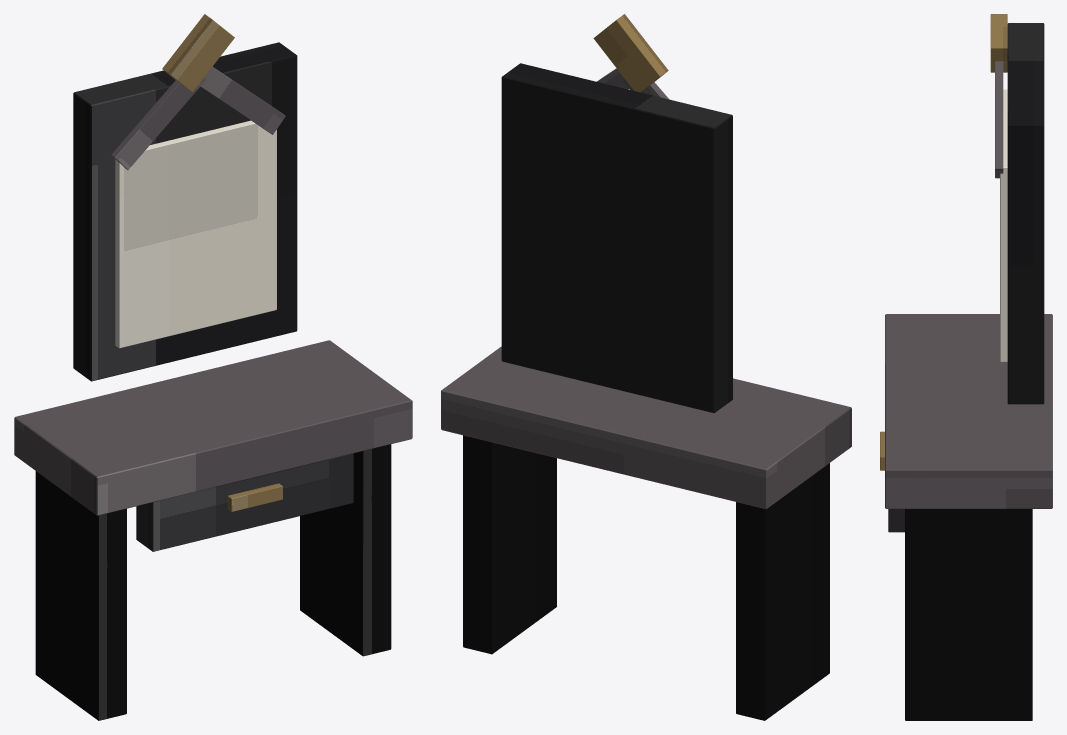
Rendered from gothic_vanity_ivory.glb.
3 views of the same model, side by side, from view 1: azimuth 30°, elevation 25°; view 2: azimuth 150°, elevation 25°; view 3: azimuth 270°, elevation 25° (orthographic). The views are drawn at different scales.
Visible parts, largest first — view 1: VanityTop, MirrorGlass, MirrorBack, VanityLeg-0.46, VanityLeg0.46, VanityDrawer, MirrorSpire, MirrorArchLeft, MirrorArchRight, VanityPull; view 2: MirrorBack, VanityTop, VanityLeg-0.46, VanityLeg0.46, MirrorSpire; view 3: VanityTop, VanityLeg0.46, MirrorBack, MirrorGlass, MirrorArchRight, MirrorSpire, VanityDrawer.
Part boxes in pixels (x1,y1,x2,y2): VanityTop: (14, 340, 412, 515); MirrorGlass: (115, 120, 276, 348); MirrorBack: (73, 42, 297, 381); VanityLeg-0.46: (35, 471, 126, 720); VanityLeg0.46: (300, 444, 391, 656); VanityDrawer: (136, 453, 353, 551); MirrorSpire: (162, 14, 234, 92); MirrorArchLeft: (111, 77, 206, 169); MirrorArchRight: (198, 66, 285, 134); VanityPull: (227, 483, 282, 511); MirrorBack: (501, 63, 732, 413); VanityTop: (441, 346, 851, 509); VanityLeg-0.46: (736, 463, 829, 720); VanityLeg0.46: (463, 435, 556, 654); MirrorSpire: (593, 14, 668, 92); VanityTop: (885, 314, 1052, 508); VanityLeg0.46: (905, 509, 1032, 720); MirrorBack: (1007, 23, 1044, 404); MirrorGlass: (1000, 89, 1007, 361); MirrorArchRight: (995, 61, 1003, 178); MirrorSpire: (990, 14, 1007, 72); VanityDrawer: (888, 509, 904, 532).
Size of the model in its own units: 1.1 by 2.1 by 0.5145.
Materials: 1 (1 with a texture image).
